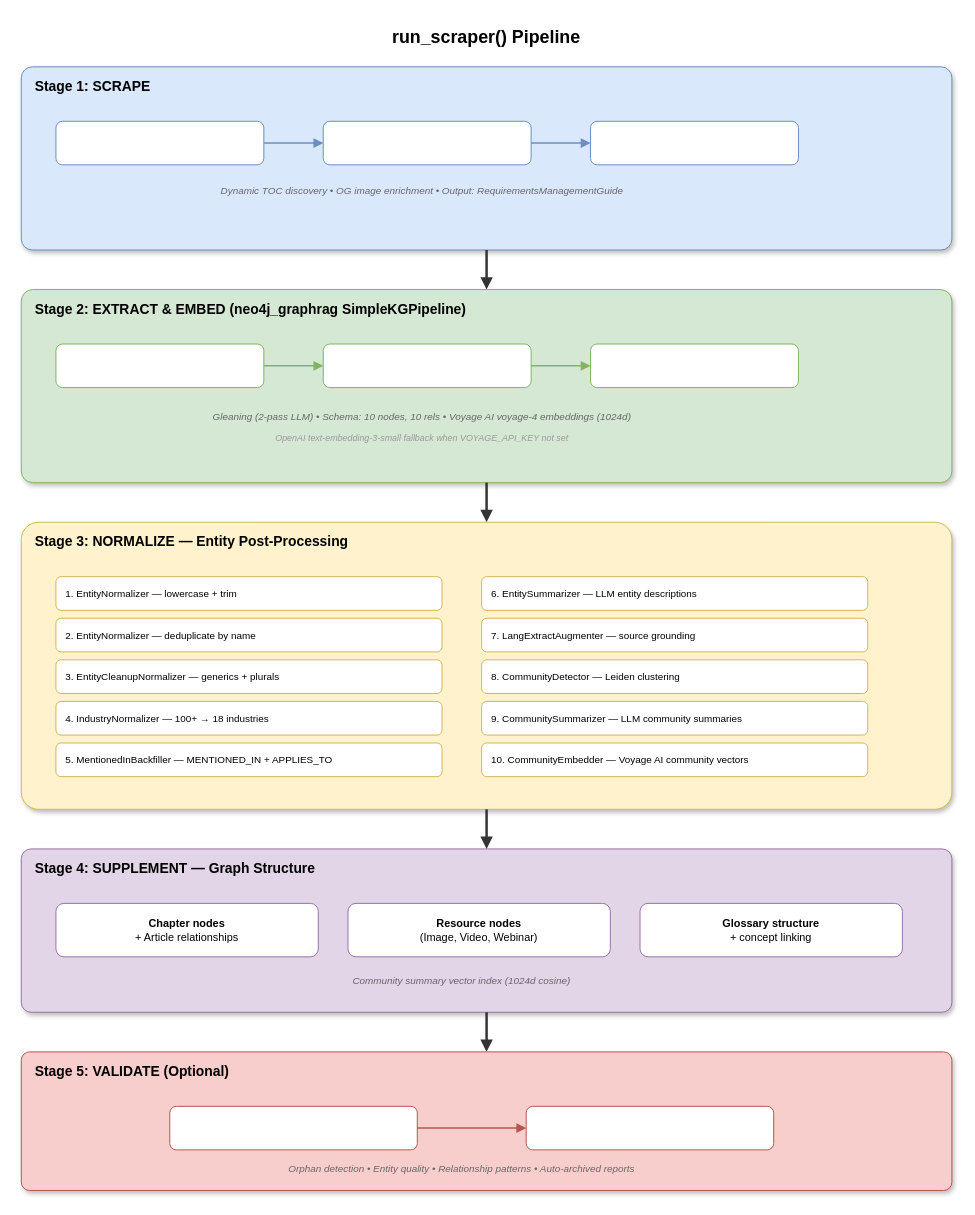
Image size: 975x1215. Some labels were removed from this diagram. The shapes that lost their labels are listed below. From the top down, each one's centre as x and y in pixels, then its label:
At point (159, 142): "GuideScraper".
At point (426, 142): "Fetcher (httpx / Playwright)".
At point (694, 142): "HTMLParser".
At point (159, 365): "GuideHTMLLoader".
At point (426, 365): "HierarchicalHTMLSplitter".
At point (694, 365): "LLMEntityRelExtractor".
At point (293, 1127): "ValidationQueries".
At point (649, 1127): "ValidationReporter".
